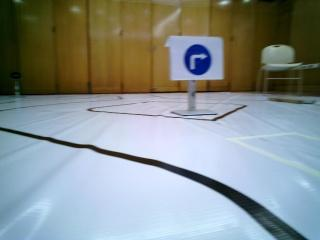right: (173, 40, 223, 77)
